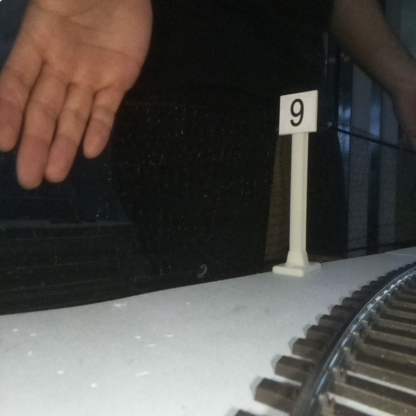white-info-9: (279, 89, 317, 273)
